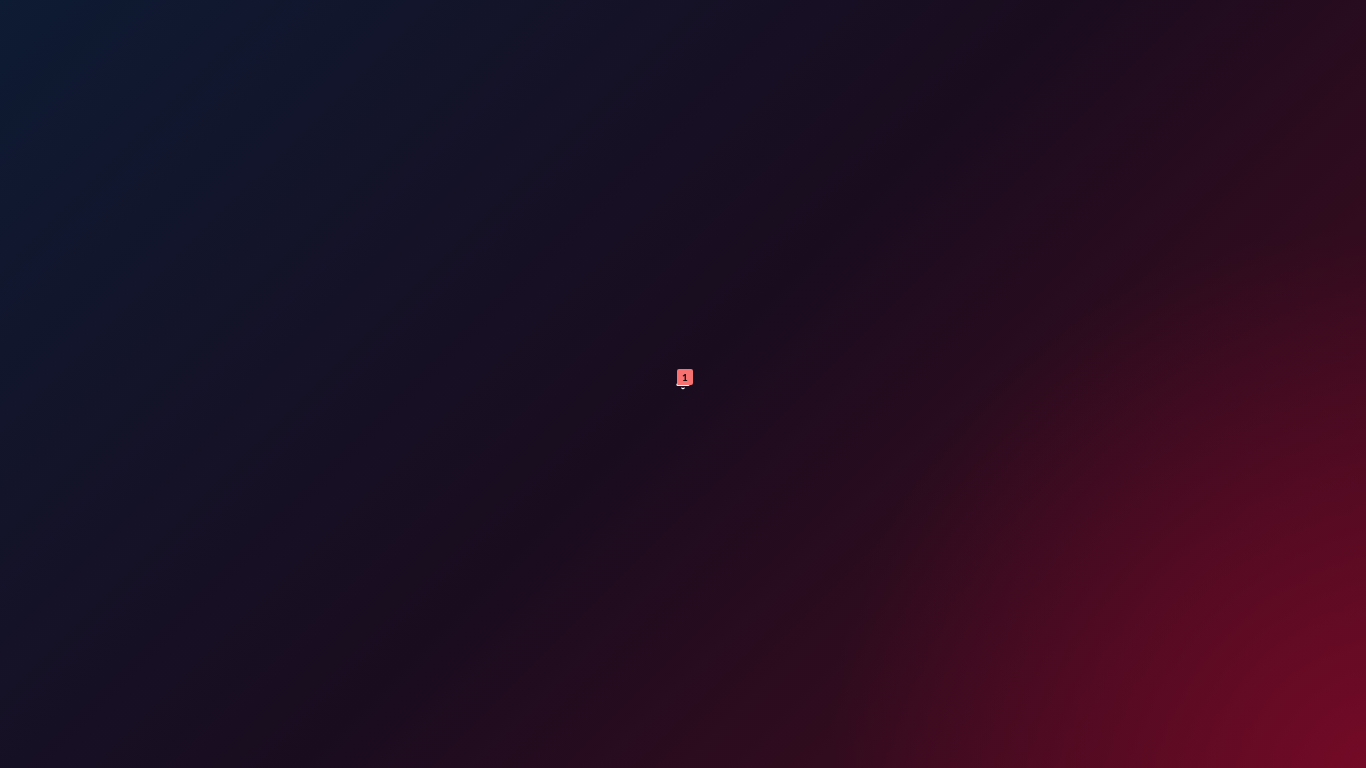
Test: NotificationCenter › shows unread count, marks read, groups
Later steps or results of the test are not shown.
What coordinates should you click on to do the following:
click the button named "Notifications (1)"
I would click on:
 (683, 384)
Its box is top-left (675, 371), bottom-right (691, 397).
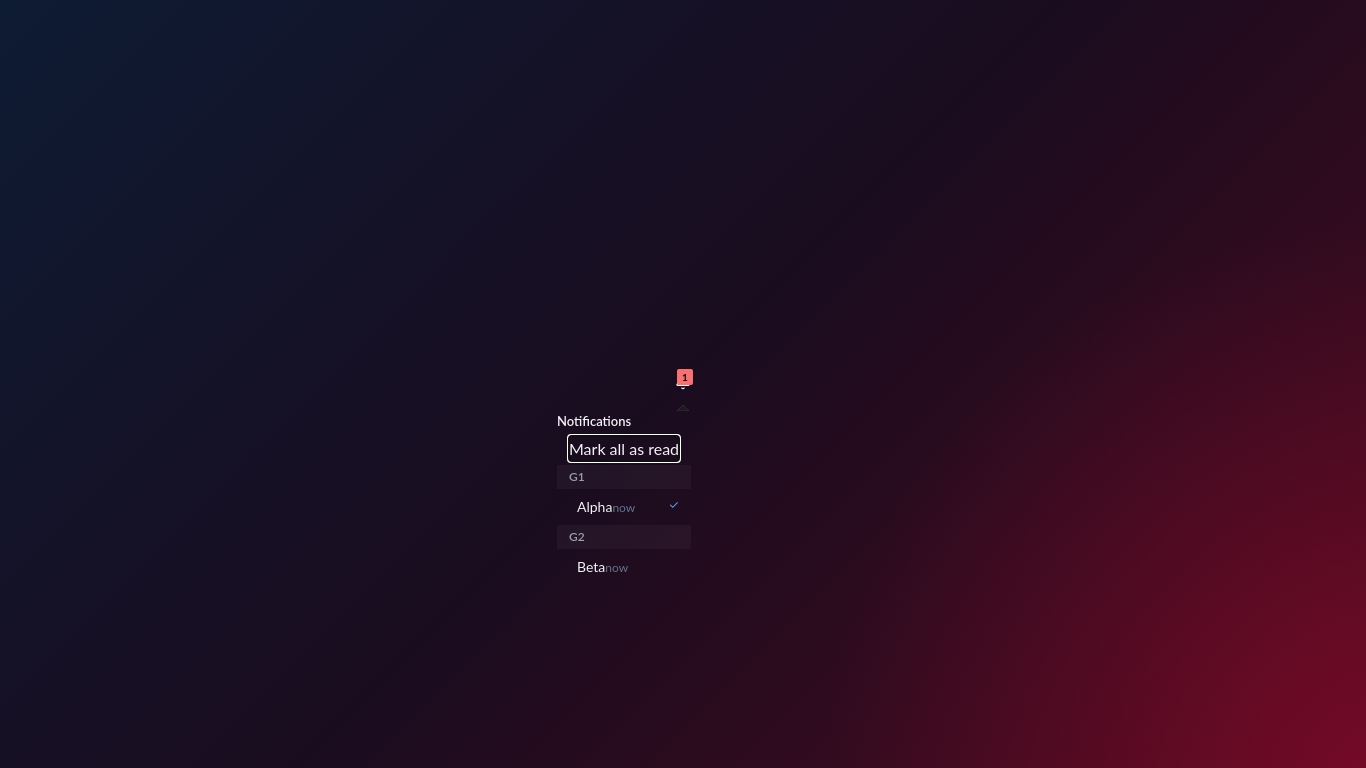
expect the heading "G1" is shown: met, box top-left (557, 465), bottom-right (691, 489)
